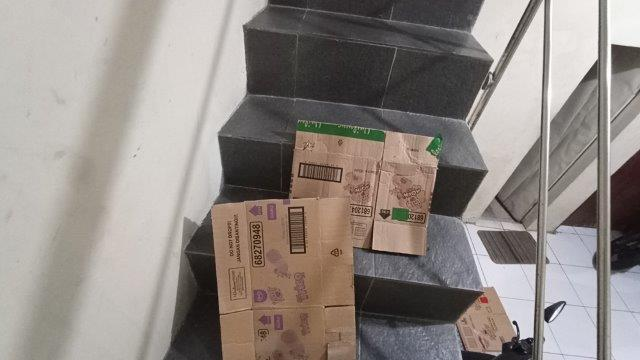kardus: (212, 200, 354, 360), (291, 121, 439, 253), (458, 289, 517, 349)
